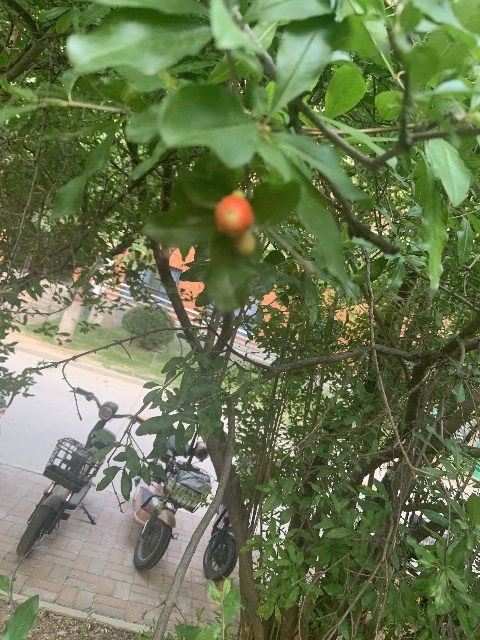bud: (213, 194, 253, 237)
